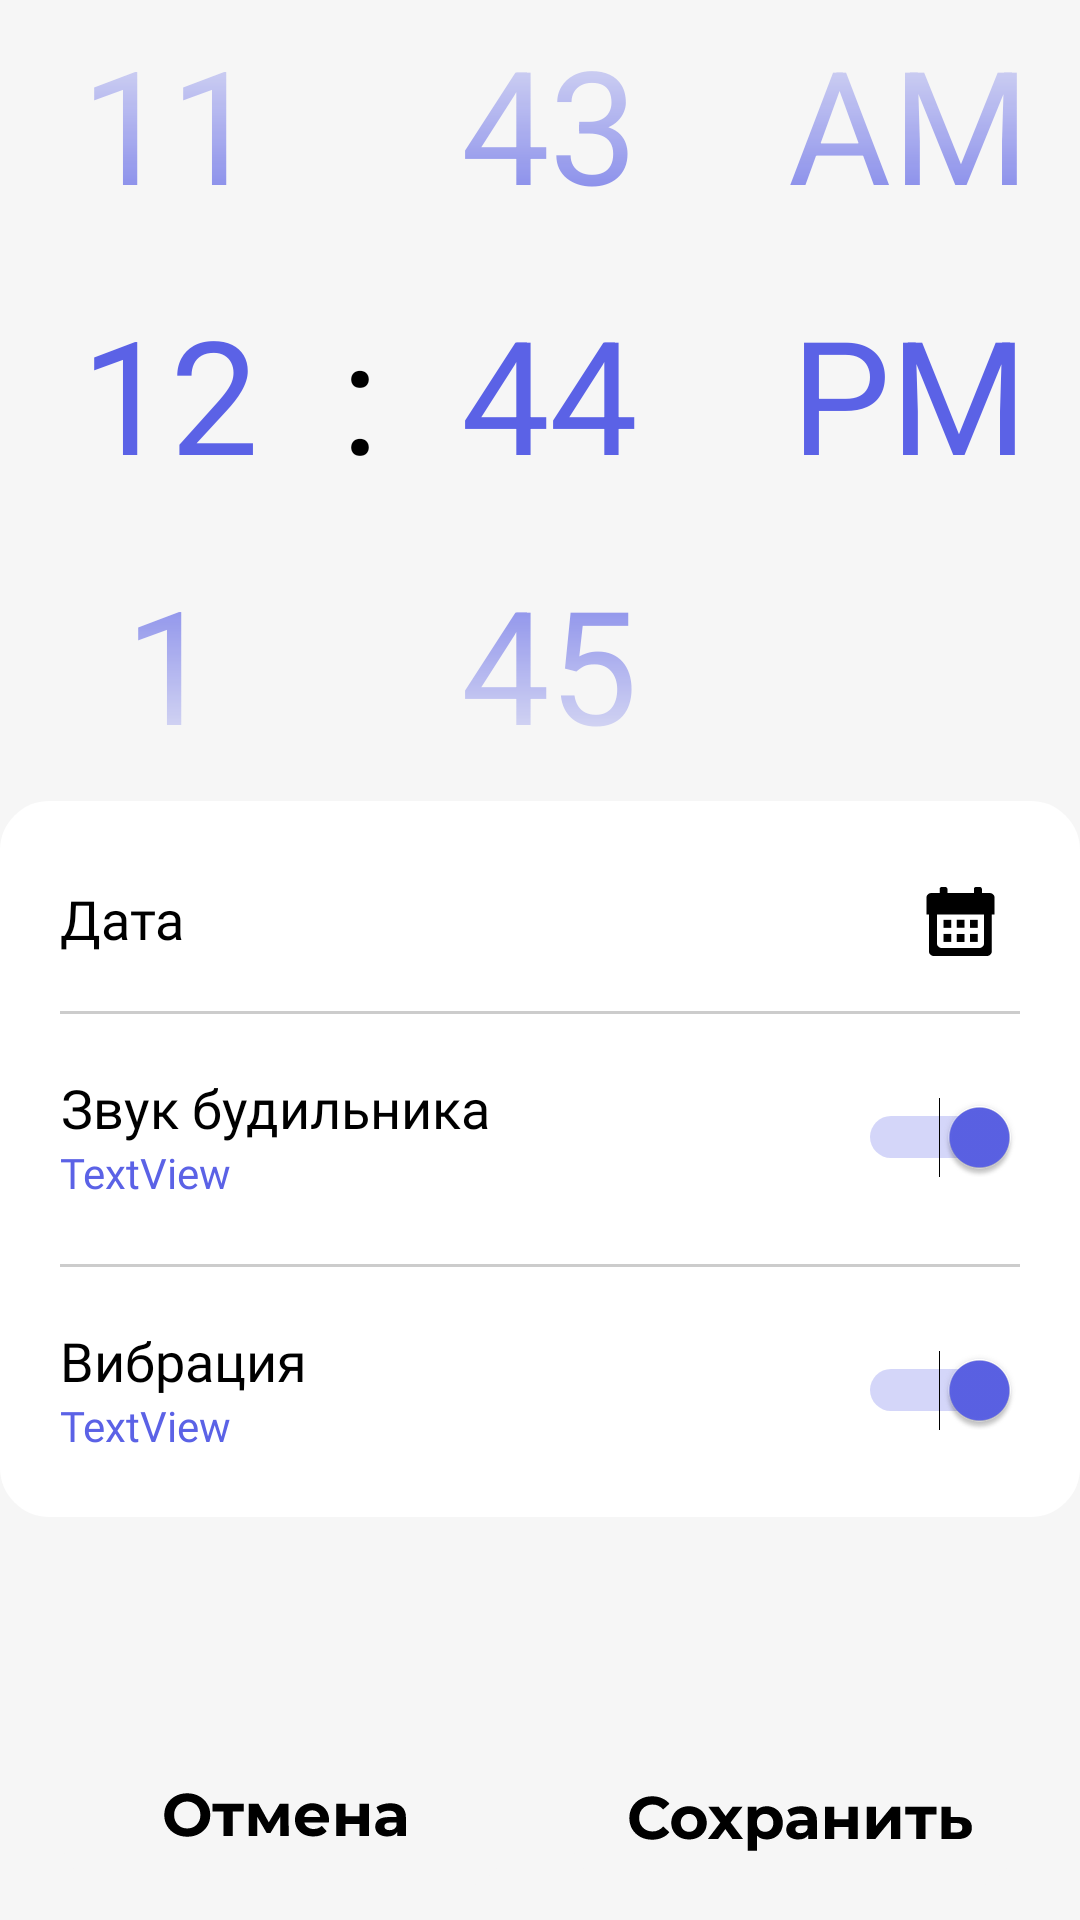

Screen size 1080x1920. Icon name, then its box in pixels as box(x1, y1, x2, y2):
calendar dialog: box(926, 887, 995, 956)
